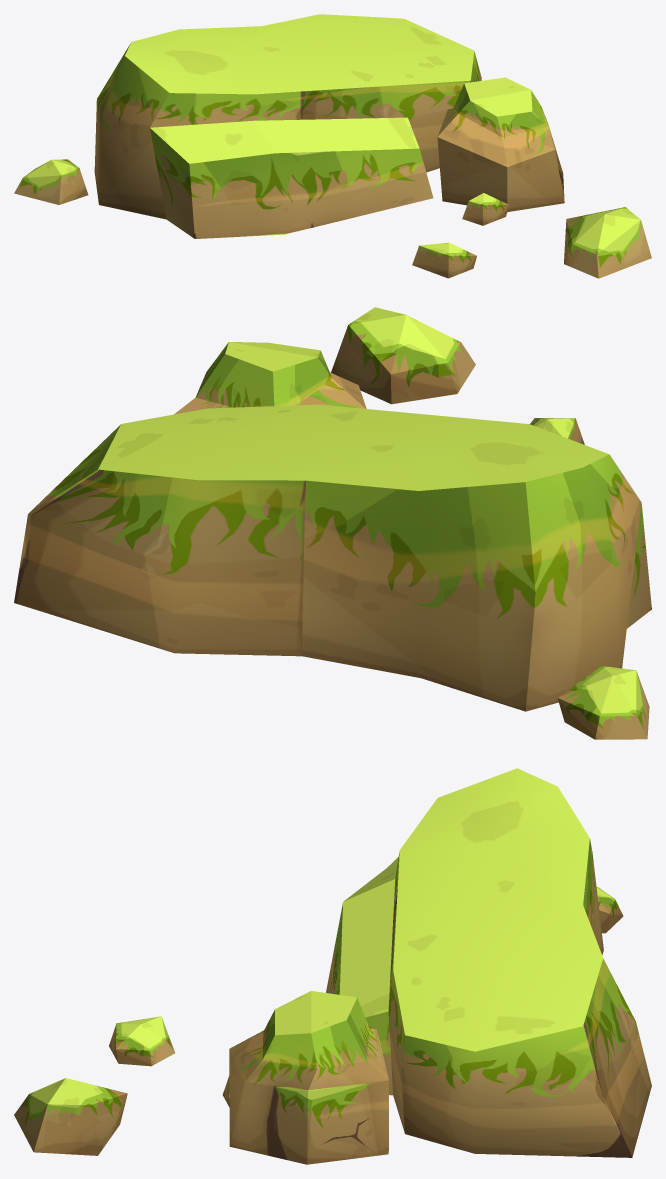
File: F_W_O_rock_012.fbx
3 views of the same model, one above another, from view 1: azimuth 30°, elevation 25°; view 2: azimuth 150°, elevation 25°; view 3: azimuth 270°, elevation 25° (orthographic). The views are drawn at different scales.
Visible parts, largest first — view 1: F_W_O_rock_012; view 2: F_W_O_rock_012; view 3: F_W_O_rock_012.
Boxes of the visible parts, x1,y1,x2,y2 form: F_W_O_rock_012: [14, 14, 651, 278]; F_W_O_rock_012: [14, 307, 651, 739]; F_W_O_rock_012: [14, 768, 651, 1164].
Size of the model in its own units: 9.04 by 2.86 by 9.21.
